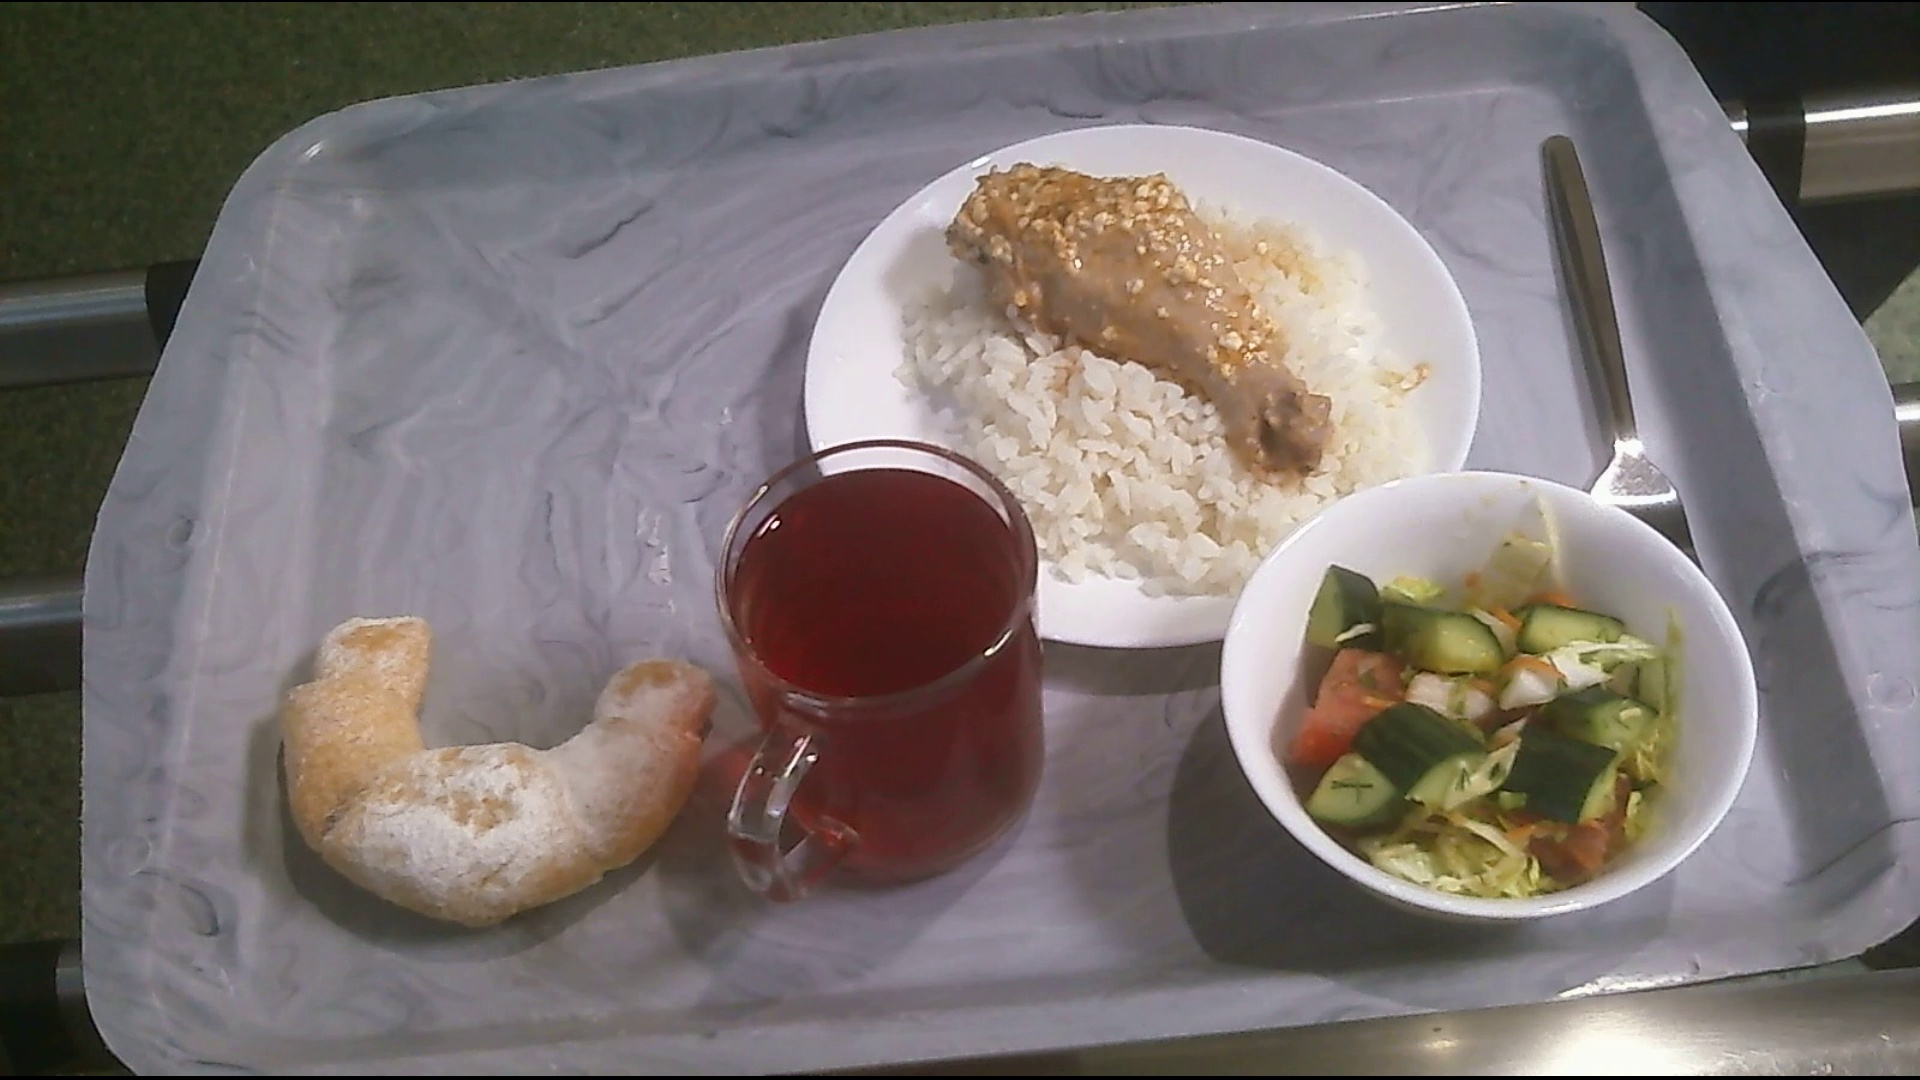bowl: (1233, 471, 1755, 926)
cutlery: (1528, 129, 1717, 580)
drink: (723, 439, 1044, 911)
other: (280, 615, 717, 936)
plate: (803, 127, 1484, 646)
